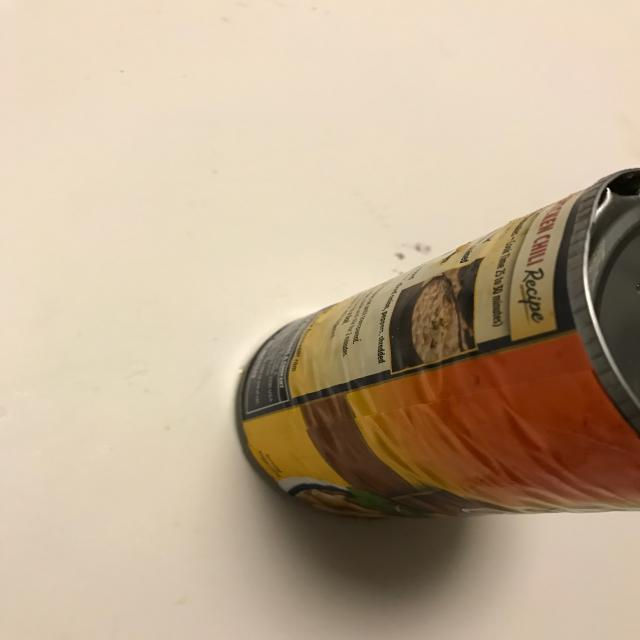metal: (234, 166, 640, 520)
